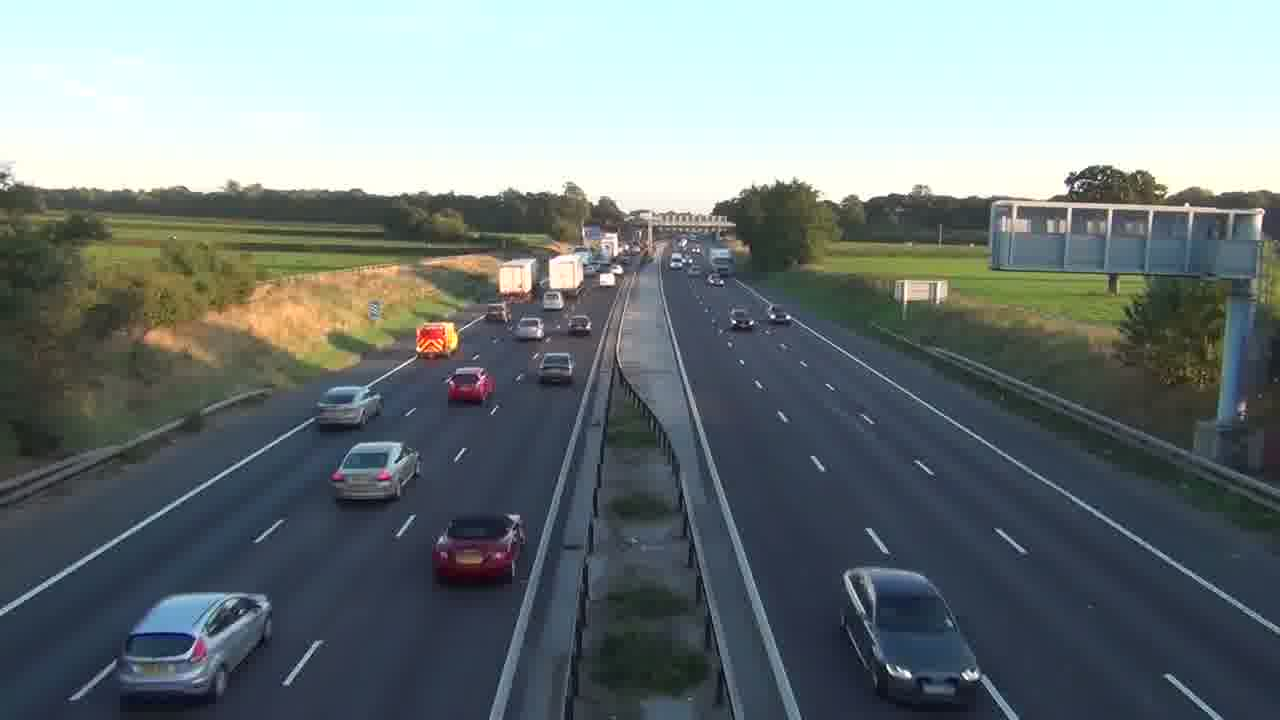car: (839, 565, 982, 707), (114, 591, 274, 706), (431, 512, 528, 586), (328, 440, 420, 503), (316, 383, 385, 430), (446, 366, 495, 404), (535, 351, 576, 386), (512, 317, 546, 342), (567, 314, 592, 336)
